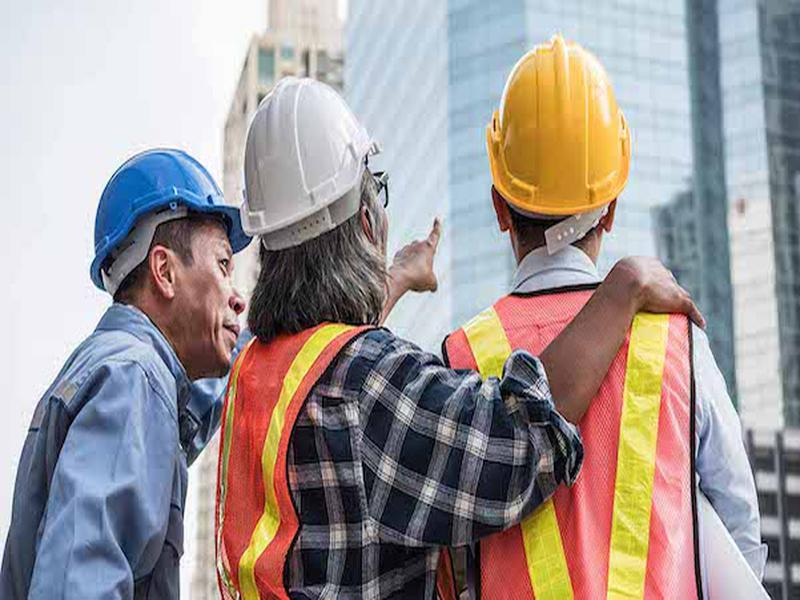hard-hat: (482, 32, 635, 249), (237, 74, 390, 255), (85, 145, 256, 297)
